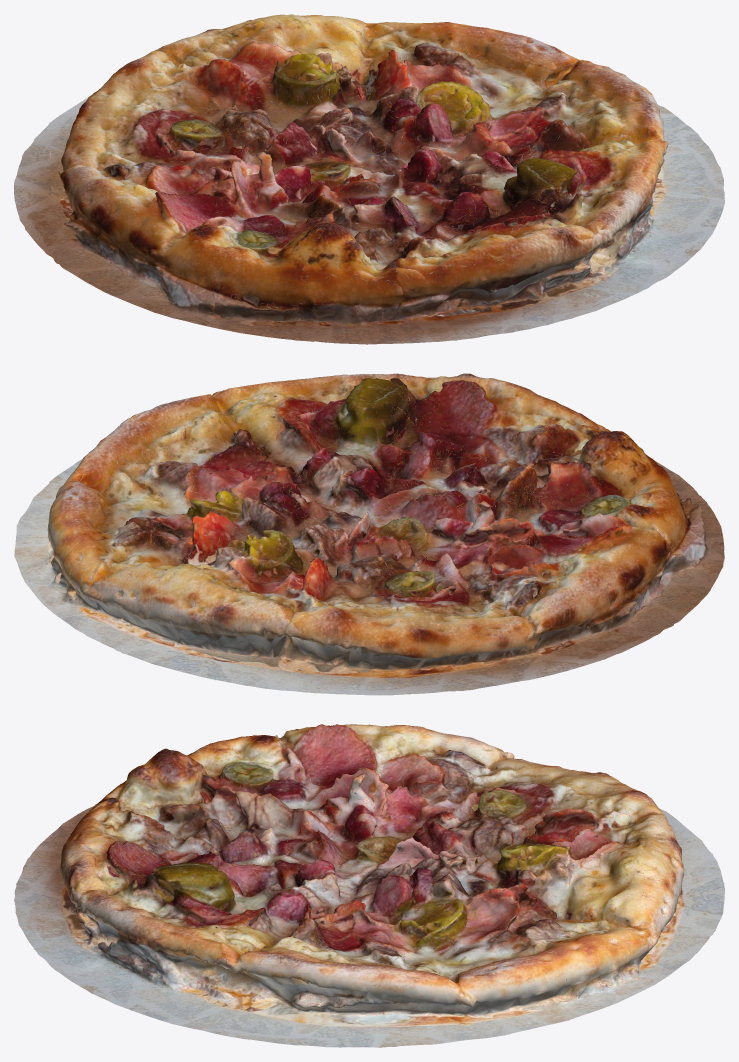
The picture shows the model from 3 angles, top to bottom: view 1: azimuth 30°, elevation 25°; view 2: azimuth 150°, elevation 25°; view 3: azimuth 270°, elevation 25°; orthographic projection.
Visible parts, largest first — view 1: decMesh; view 2: decMesh; view 3: decMesh.
Part boxes in pixels (left/top/right/bottom): decMesh: left=14, top=14, right=724, bottom=344; decMesh: left=14, top=373, right=724, bottom=695; decMesh: left=14, top=724, right=724, bottom=1047.
Size of the model in its own units: 0.3492 by 0.0423 by 0.349.
1 material, 1 textured.
